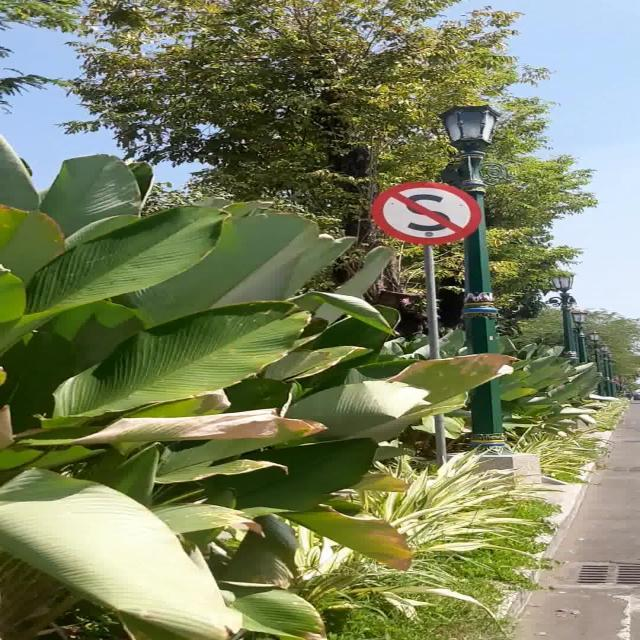Dilarang Berhenti: (372, 182, 482, 244)
